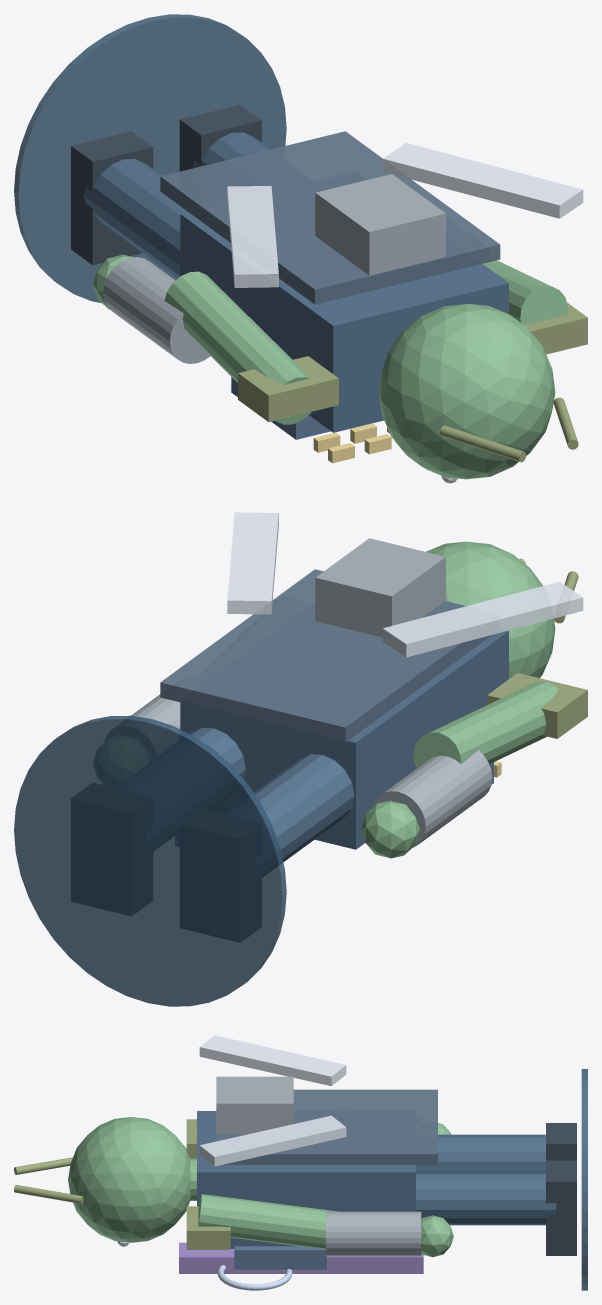
File: SW_NPC_045_xara_skyrill.glb
3 renders of one model, top to bottom at view 1: azimuth 30°, elevation 25°; view 2: azimuth 150°, elevation 25°; view 3: azimuth 270°, elevation 25°, orthographic. The views are drawn at different scales.
Visible parts, largest first — view 1: round_base_plate, head, storm_cloak, torso_uniform, wingpack_core, left_upper_arm, left_leg, right_wing_rig, left_forearm_gauntlet, left_boot, left_wing_rig, bark_left_shoulder (+8 smaller); view 2: round_base_plate, storm_cloak, torso_uniform, wingpack_core, head, left_wing_rig, left_leg, left_upper_arm, left_forearm_gauntlet, right_wing_rig, left_hand, bark_left_shoulder (+2 smaller); view 3: head, storm_cloak, torso_uniform, right_leg, right_upper_arm, right_forearm_gauntlet, left_leg, wingpack_core, rank_sash, right_wing_rig, left_wing_rig, right_boot (+9 smaller).
Part boxes in pixels (<box>): round_base_plate: <box>14,14,286,303</box>; head: <box>378,303,555,479</box>; storm_cloak: <box>160,131,500,304</box>; torso_uniform: <box>180,212,508,432</box>; wingpack_core: <box>315,174,445,275</box>; left_upper_arm: <box>164,271,311,424</box>; left_leg: <box>84,159,187,278</box>; right_wing_rig: <box>382,143,583,218</box>; left_forearm_gauntlet: <box>103,257,210,363</box>; left_boot: <box>71,131,153,265</box>; left_wing_rig: <box>227,186,278,287</box>; bark_left_shoulder: <box>238,356,338,421</box>; round_base_plate: <box>14,715,286,1006</box>; storm_cloak: <box>160,569,492,742</box>; torso_uniform: <box>180,630,508,849</box>; wingpack_core: <box>315,538,445,637</box>; head: <box>426,541,555,678</box>; left_wing_rig: <box>382,581,583,657</box>; left_leg: <box>254,754,354,861</box>; left_upper_arm: <box>413,681,558,767</box>; left_forearm_gauntlet: <box>372,750,492,847</box>; right_wing_rig: <box>227,512,278,614</box>; left_hand: <box>361,800,419,858</box>; bark_left_shoulder: <box>487,673,587,738</box>; head: <box>68,1117,190,1242</box>; storm_cloak: <box>216,1089,437,1164</box>; torso_uniform: <box>197,1111,415,1248</box>; right_leg: <box>416,1172,556,1225</box>; right_upper_arm: <box>198,1194,338,1249</box>; right_forearm_gauntlet: <box>326,1211,421,1256</box>; left_leg: <box>416,1134,545,1172</box>; wingpack_core: <box>216,1076,293,1134</box>; rank_sash: <box>179,1242,423,1273</box>; right_wing_rig: <box>199,1115,346,1166</box>; left_wing_rig: <box>199,1035,346,1086</box>; right_boot: <box>546,1160,576,1255</box>.
Bounding box in the file's own units: 1.36 × 1.05 × 2.72.
